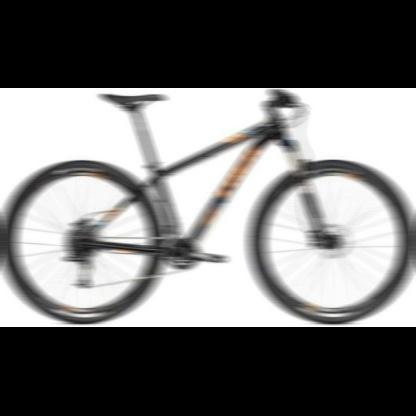Bicycle: (0, 89, 415, 326)
